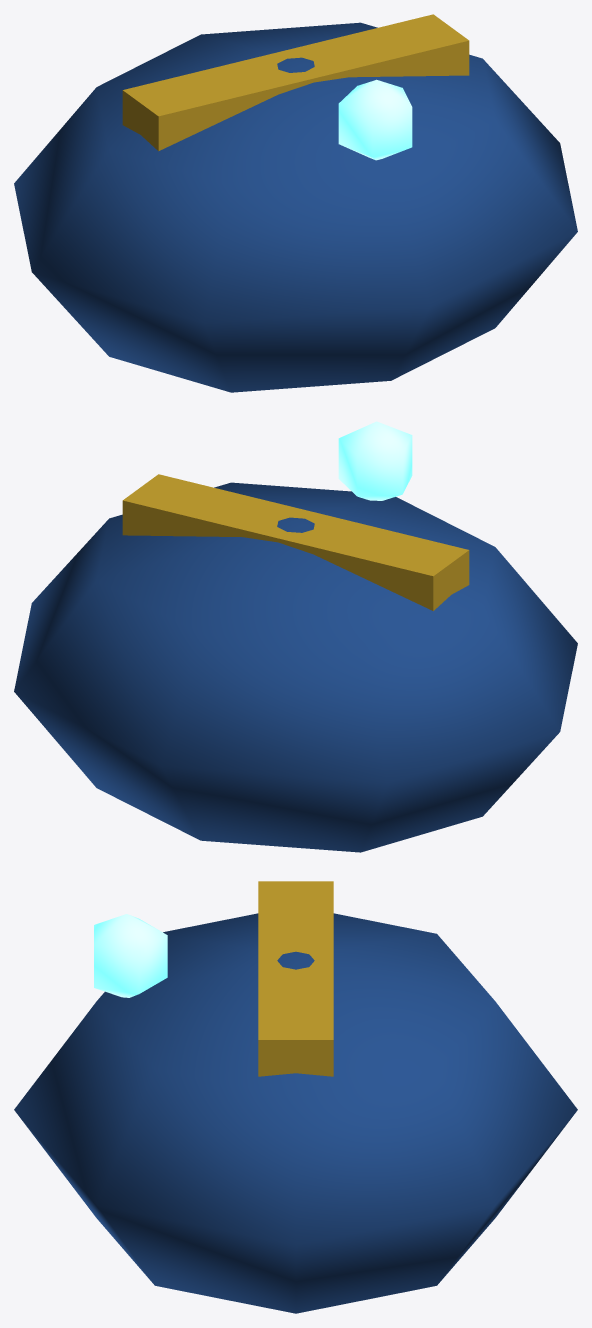
The model's file is dc_shoulder_plate_blue.glb.
The picture shows the model from 3 angles, top to bottom: view 1: azimuth 30°, elevation 25°; view 2: azimuth 150°, elevation 25°; view 3: azimuth 270°, elevation 25°; orthographic projection. The views are drawn at different scales.
Parts seen in each view (by area): view 1: part.dc_shoulder_plate_blue; view 2: part.dc_shoulder_plate_blue; view 3: part.dc_shoulder_plate_blue.
Part boxes in pixels (x1,y1,x2,y2): part.dc_shoulder_plate_blue: [14, 14, 577, 392]; part.dc_shoulder_plate_blue: [14, 421, 577, 852]; part.dc_shoulder_plate_blue: [14, 881, 577, 1313].
Bounding box in the file's own units: 0.34 × 0.205 × 0.3.
